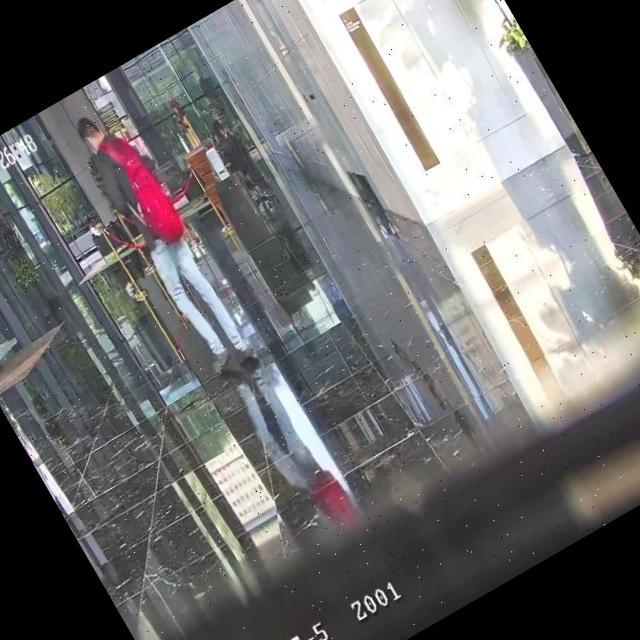person: (67, 98, 260, 380), (203, 116, 257, 184), (85, 202, 137, 260)
